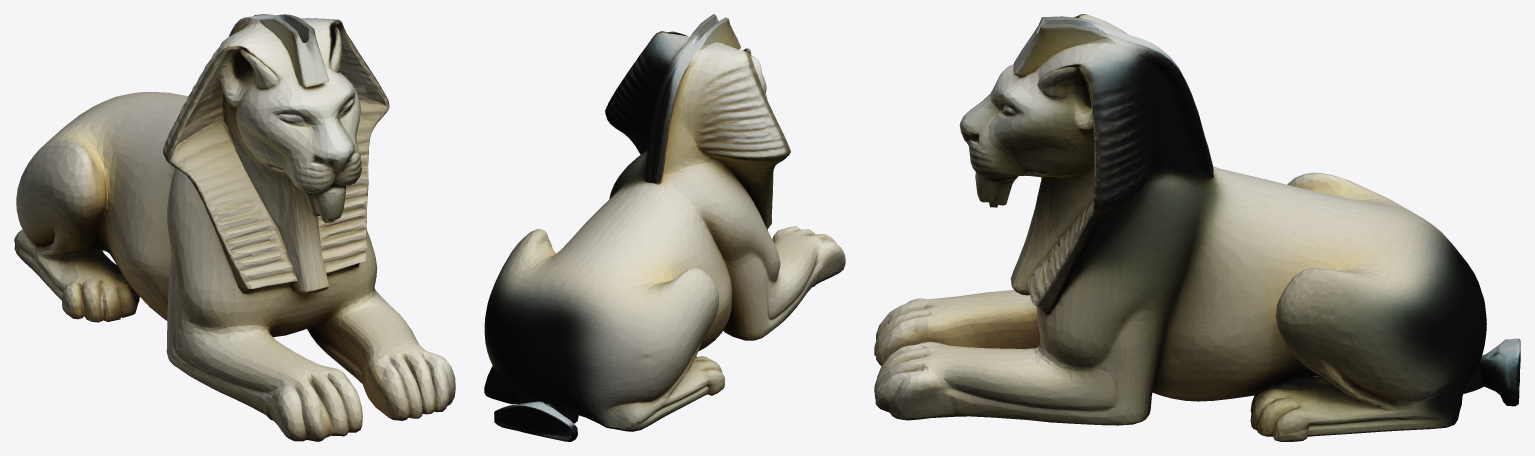
Rendered from ori.glb.
The picture shows the model from 3 angles, left to right: view 1: azimuth 30°, elevation 25°; view 2: azimuth 150°, elevation 25°; view 3: azimuth 270°, elevation 25°; orthographic projection. The views are drawn at different scales.
Parts seen in each view (by area): view 1: world; view 2: world; view 3: world.
Boxes of the visible parts, x1=… form: world: x1=14, y1=14, x2=455, y2=441; world: x1=484, y1=14, x2=845, y2=441; world: x1=874, y1=14, x2=1520, y2=441.
Size of the model in its own units: 0.4574 by 0.6241 by 1.
1 material, 1 textured.
